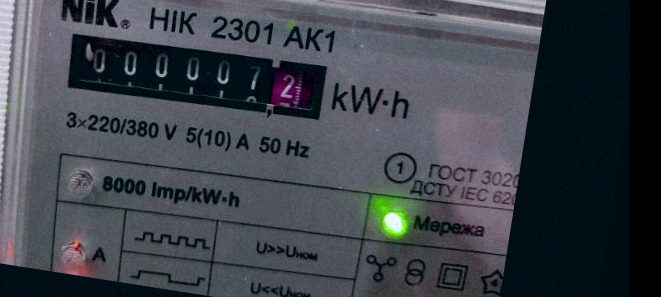0: (87, 44, 108, 73), (181, 53, 202, 82), (150, 49, 170, 79), (119, 47, 139, 76), (213, 56, 232, 86)
2: (277, 71, 296, 100)
7: (243, 60, 263, 92)
screen: (51, 18, 339, 132)
